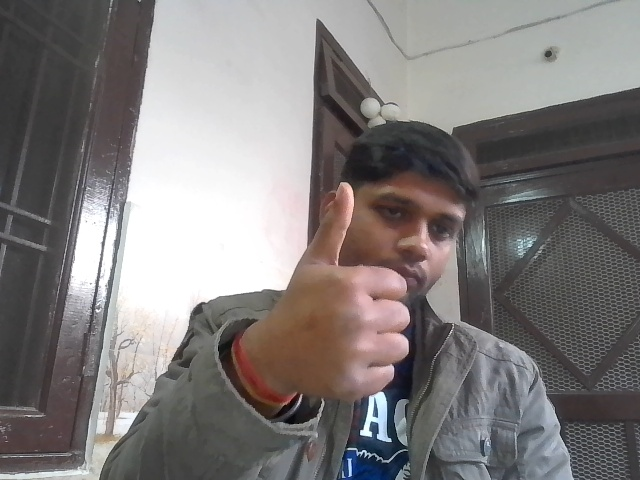BestOfLuck: (285, 179, 414, 406)
